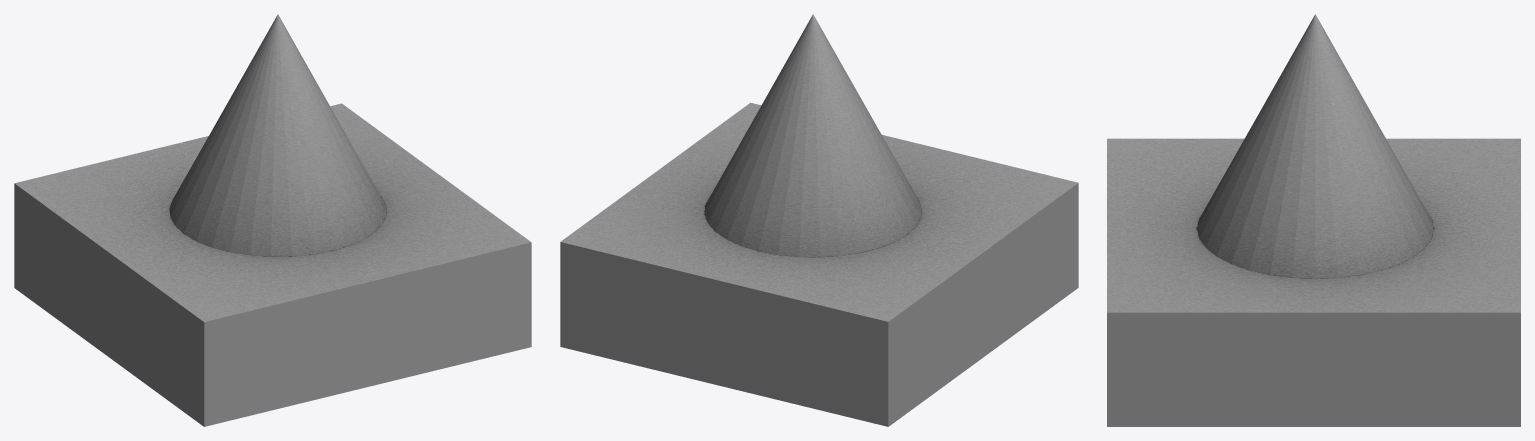
File: scourge_ancient.obj
The picture shows the model from 3 angles, left to right: view 1: azimuth 30°, elevation 25°; view 2: azimuth 150°, elevation 25°; view 3: azimuth 270°, elevation 25°; orthographic projection. The views are drawn at different scales.
Parts seen in each view (by area): view 1: Cube; view 2: Cube; view 3: Cube.
Boxes of the visible parts, x1,y1,x2,y2 form: Cube: (14,14,531,426); Cube: (560,14,1078,426); Cube: (1107,14,1520,426).
Size of the model in its own units: 6.54 by 5.76 by 6.57.
Materials: 1 (1 with a texture image).
